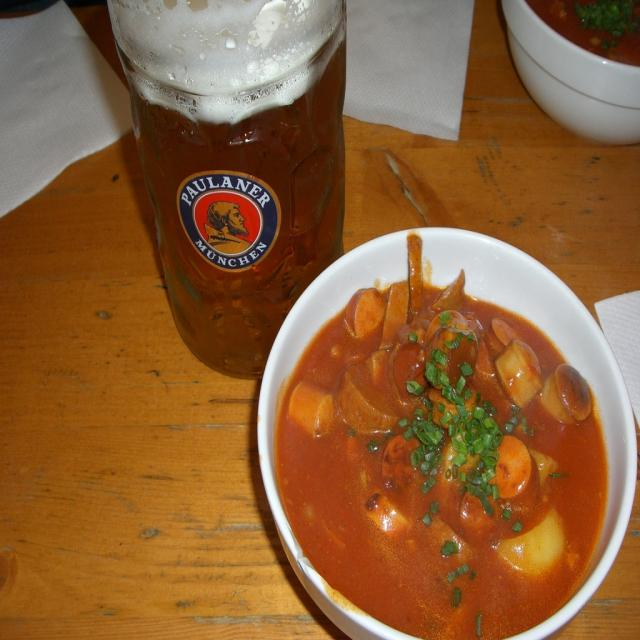paulaner: (177, 169, 281, 273)
